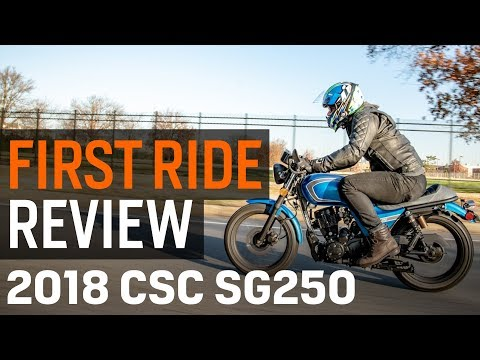helmet: (314, 77, 369, 135)
